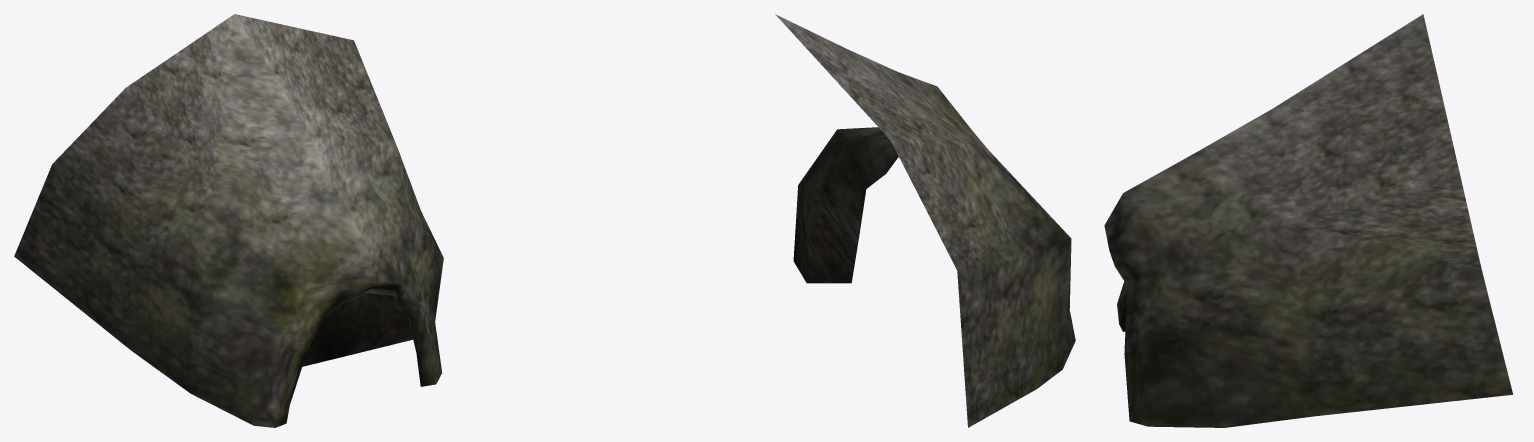
3 renders of one model, left to right at view 1: azimuth 30°, elevation 25°; view 2: azimuth 150°, elevation 25°; view 3: azimuth 270°, elevation 25°, orthographic. The views are drawn at different scales.
Visible parts, largest first — view 1: ob-1-01; view 2: ob-1-01; view 3: ob-1-01.
Boxes of the visible parts, bbox=[...] form: ob-1-01: bbox=[14, 14, 443, 427]; ob-1-01: bbox=[775, 14, 1075, 427]; ob-1-01: bbox=[1104, 14, 1512, 427].
Bounding box in the file's own units: 17.39 × 13.74 × 14.33.
1 material, 1 textured.
